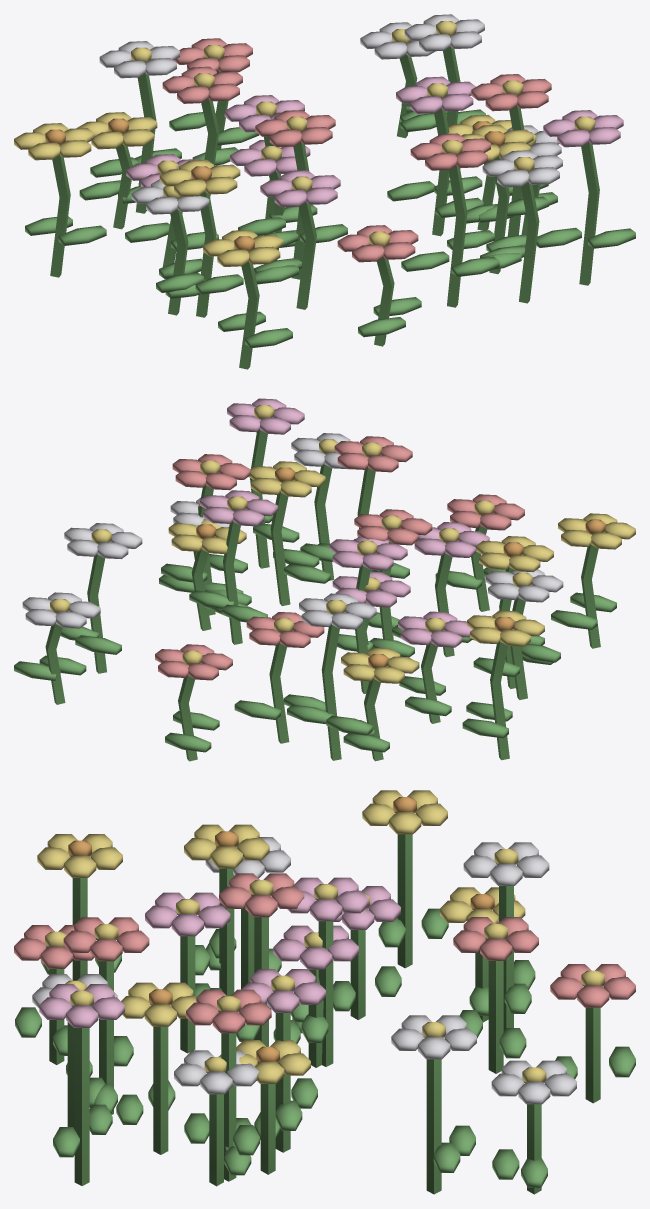
Rendered from flowers.glb.
3 renders of one model, top to bottom at view 1: azimuth 30°, elevation 25°; view 2: azimuth 150°, elevation 25°; view 3: azimuth 270°, elevation 25°, orthographic. The views are drawn at different scales.
Parts seen in each view (by area): view 1: flowers_0, flowers_1, flowers_3, flowers_2; view 2: flowers_1, flowers_0, flowers_2, flowers_3; view 3: flowers_0, flowers_3, flowers_1, flowers_2.
Part boxes in pixels (x1,y1,x2,y2): flowers_0: [162, 38, 551, 346]; flowers_1: [14, 112, 533, 369]; flowers_3: [125, 76, 635, 309]; flowers_2: [90, 14, 562, 315]; flowers_1: [168, 461, 635, 761]; flowers_0: [155, 436, 524, 761]; flowers_2: [14, 433, 563, 760]; flowers_3: [189, 398, 489, 723]; flowers_0: [14, 873, 635, 1181]; flowers_3: [39, 877, 401, 1185]; flowers_1: [37, 790, 525, 1174]; flowers_2: [32, 837, 576, 1194].
Size of the model in its own units: 1.02 by 0.3421 by 1.
